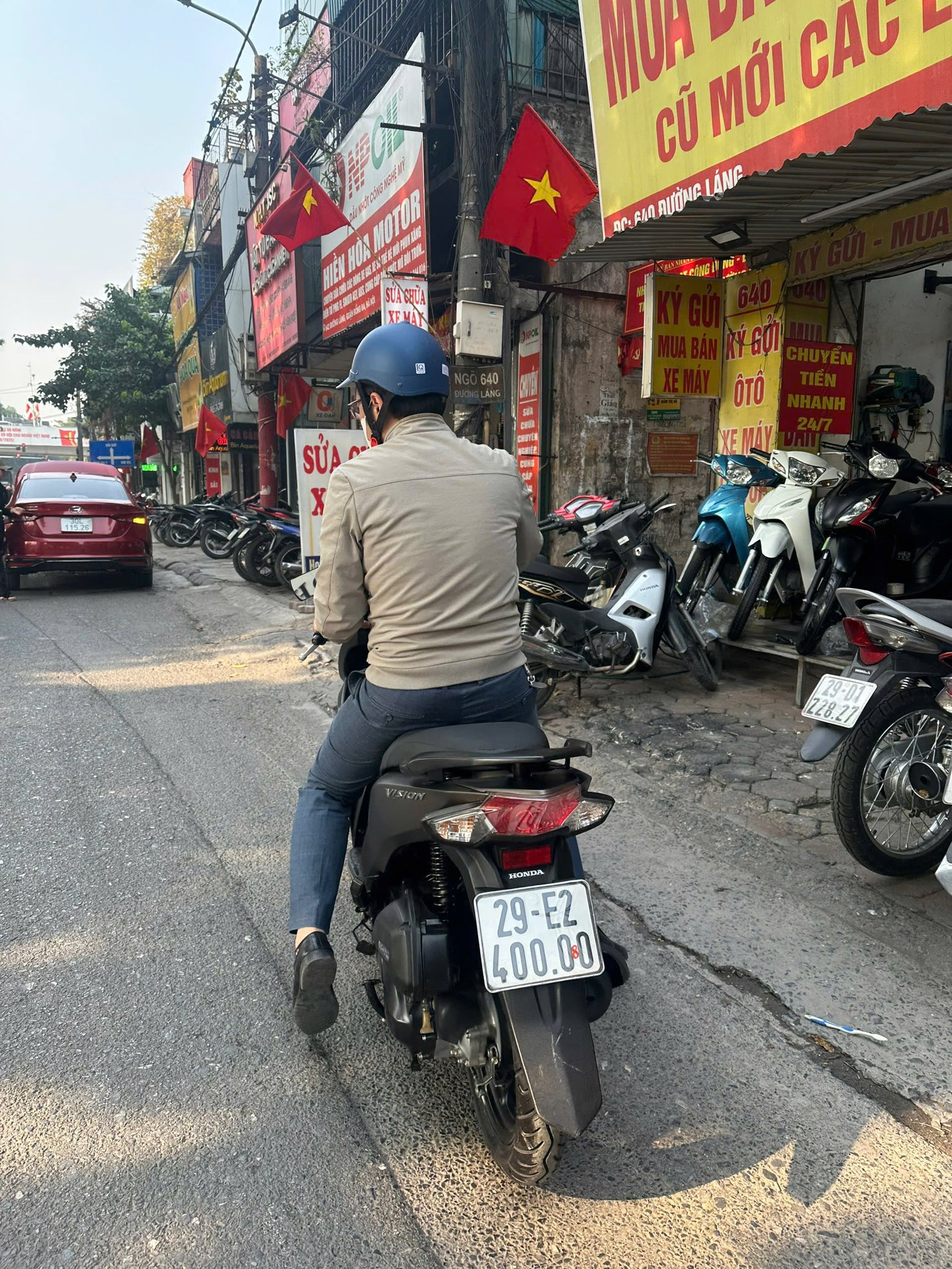bien_so: (458, 872, 612, 1003), (795, 663, 881, 733)
